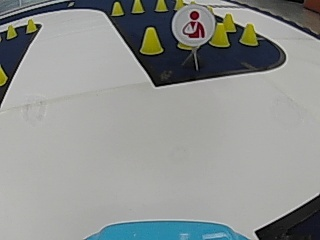cone: (139, 26, 163, 55), (210, 23, 230, 47), (240, 23, 258, 46), (25, 18, 37, 33), (111, 2, 124, 15), (6, 24, 17, 39), (154, 0, 167, 12), (132, 0, 144, 13), (0, 63, 7, 85)
patient: (174, 6, 212, 45)
